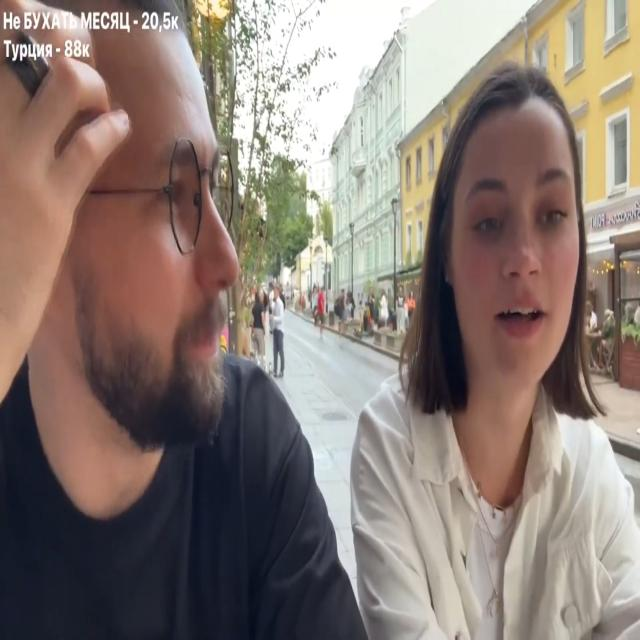Person: (0, 6, 355, 636), (333, 50, 640, 639), (266, 283, 286, 375), (314, 286, 328, 330), (335, 292, 347, 328)
